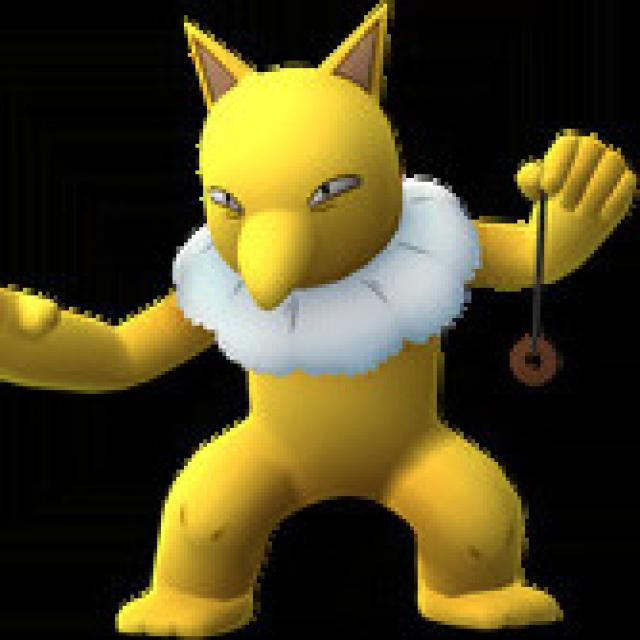Hypno: (98, 13, 582, 640)
